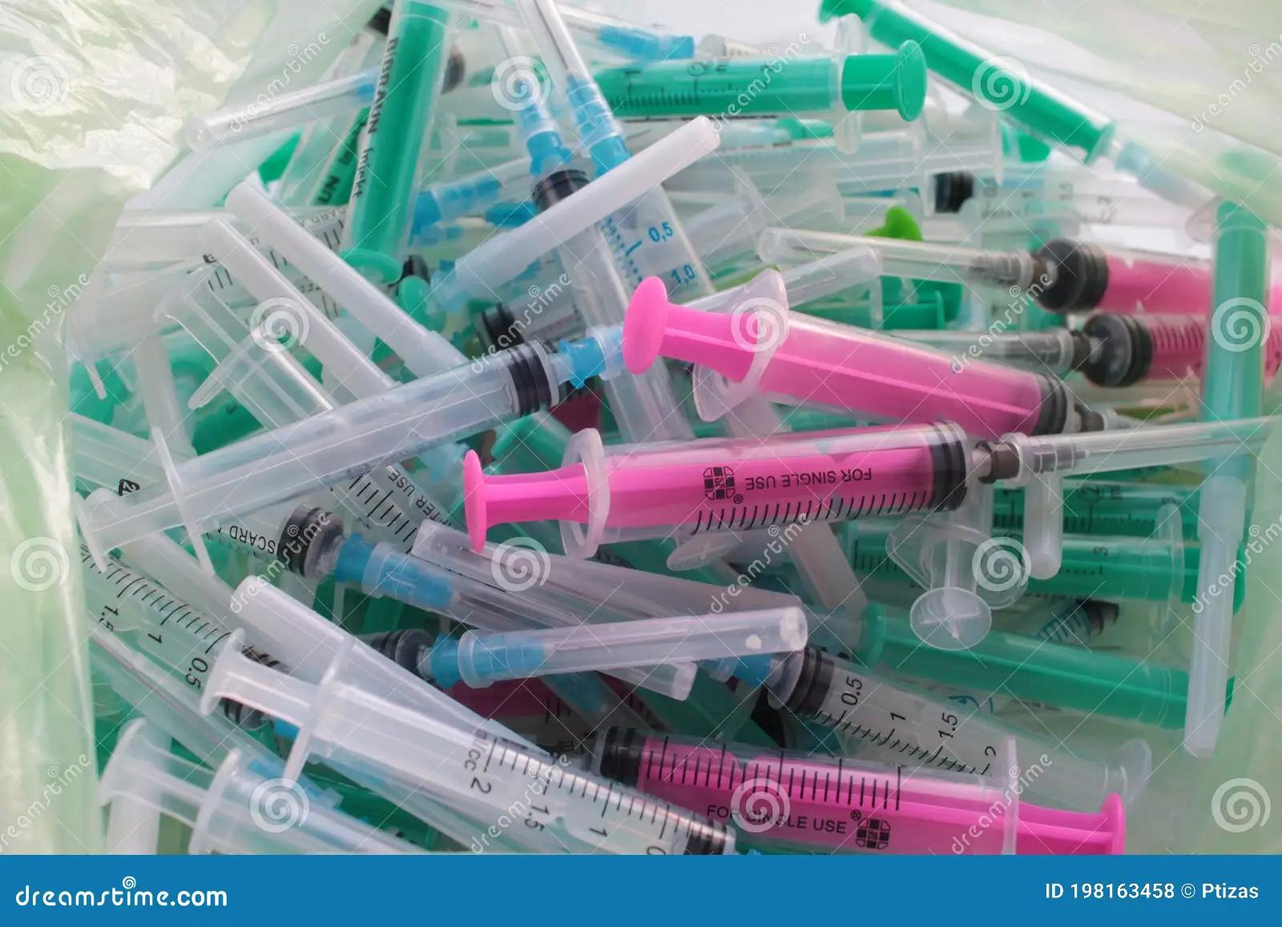Syringe: (79, 341, 607, 562), (204, 658, 734, 854), (623, 272, 1077, 437), (592, 728, 1124, 854), (465, 425, 969, 556), (766, 648, 1150, 809), (433, 117, 717, 313), (974, 417, 1275, 578), (820, 0, 1114, 162), (226, 183, 463, 376), (99, 720, 421, 853), (414, 526, 797, 625), (288, 506, 582, 631), (881, 616, 1187, 728), (417, 607, 807, 694), (341, 0, 449, 282), (300, 532, 607, 631), (88, 626, 282, 768), (595, 41, 925, 121), (718, 123, 1001, 213), (897, 312, 1207, 386), (80, 545, 232, 690), (1183, 445, 1253, 757), (516, 0, 632, 185), (758, 229, 1045, 292), (990, 526, 1199, 606), (184, 67, 379, 151), (1033, 240, 1225, 324), (962, 162, 1189, 227), (1078, 312, 1252, 386), (683, 178, 822, 264), (446, 679, 595, 752), (894, 328, 1098, 376), (1062, 480, 1196, 540), (562, 5, 695, 61), (603, 365, 693, 441), (1027, 599, 1119, 646)
